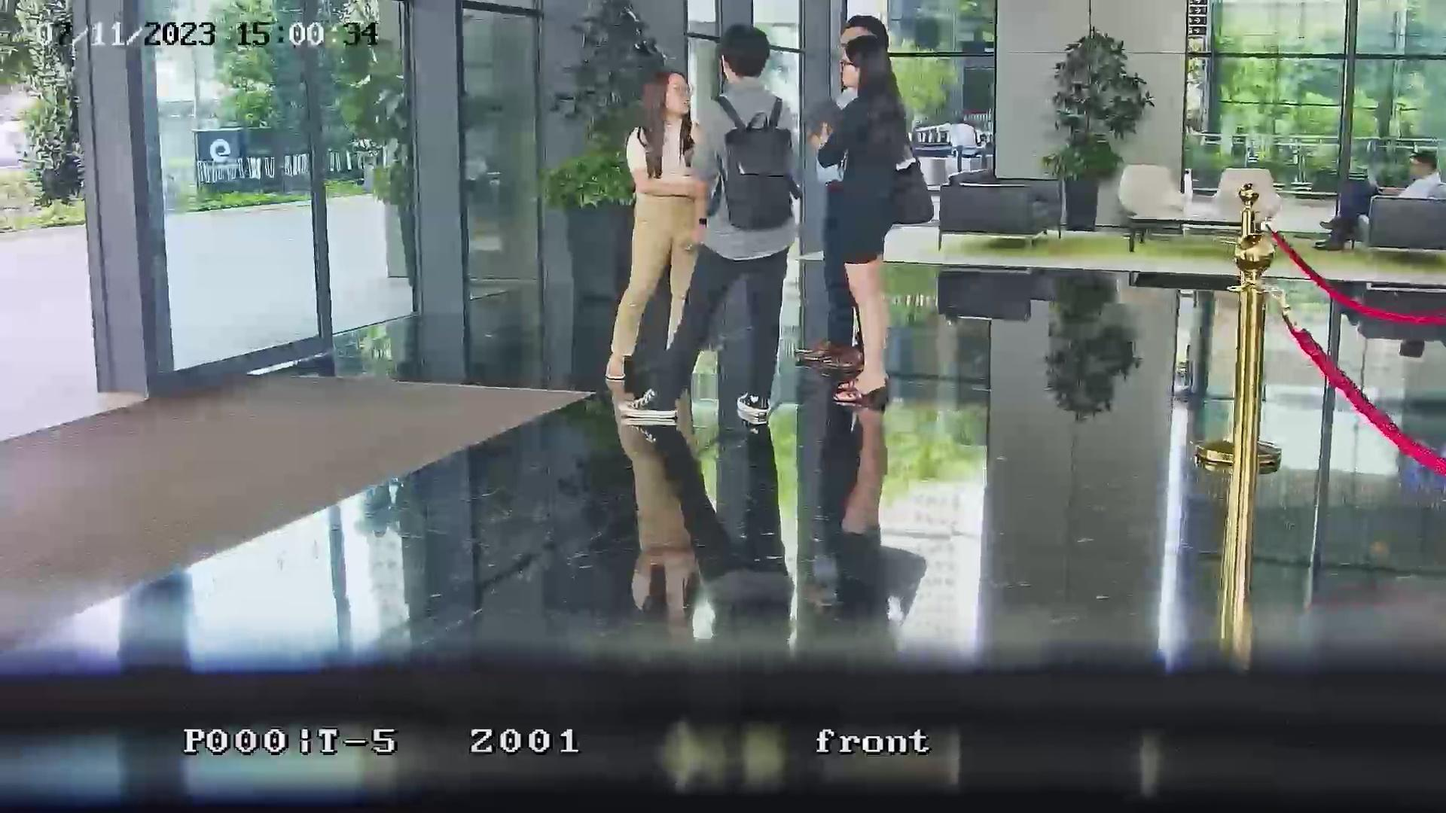person: (621, 23, 804, 431), (810, 14, 929, 409), (606, 69, 704, 403), (1314, 148, 1445, 254)
